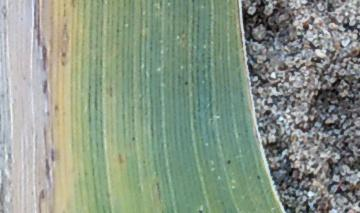tarspot: (39, 78, 49, 96), (49, 147, 57, 164), (224, 157, 233, 166), (59, 51, 69, 59), (254, 173, 262, 182), (182, 79, 190, 87), (130, 134, 137, 142), (196, 208, 205, 213)
